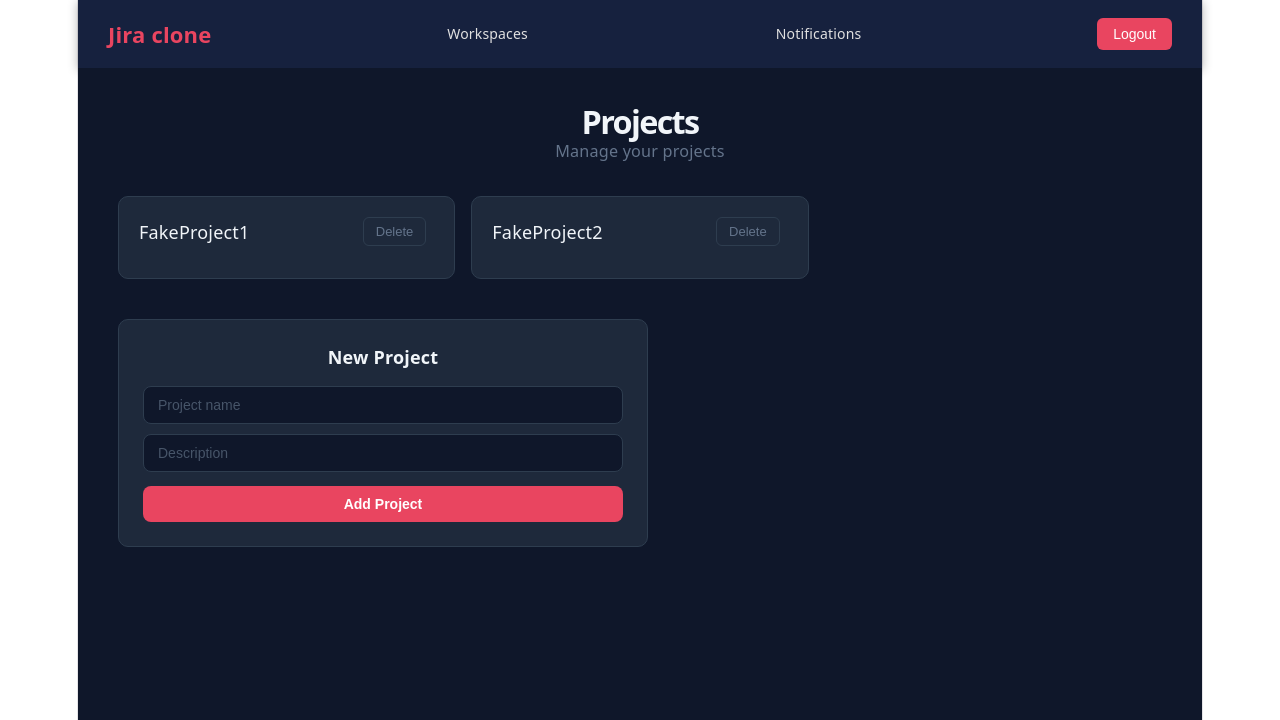
ProjectsPage › should add new project
Type "test123" into the field with placeholder "Project name". click: coordinates (383, 405)
box: x1=143 y1=386 x2=623 y2=424
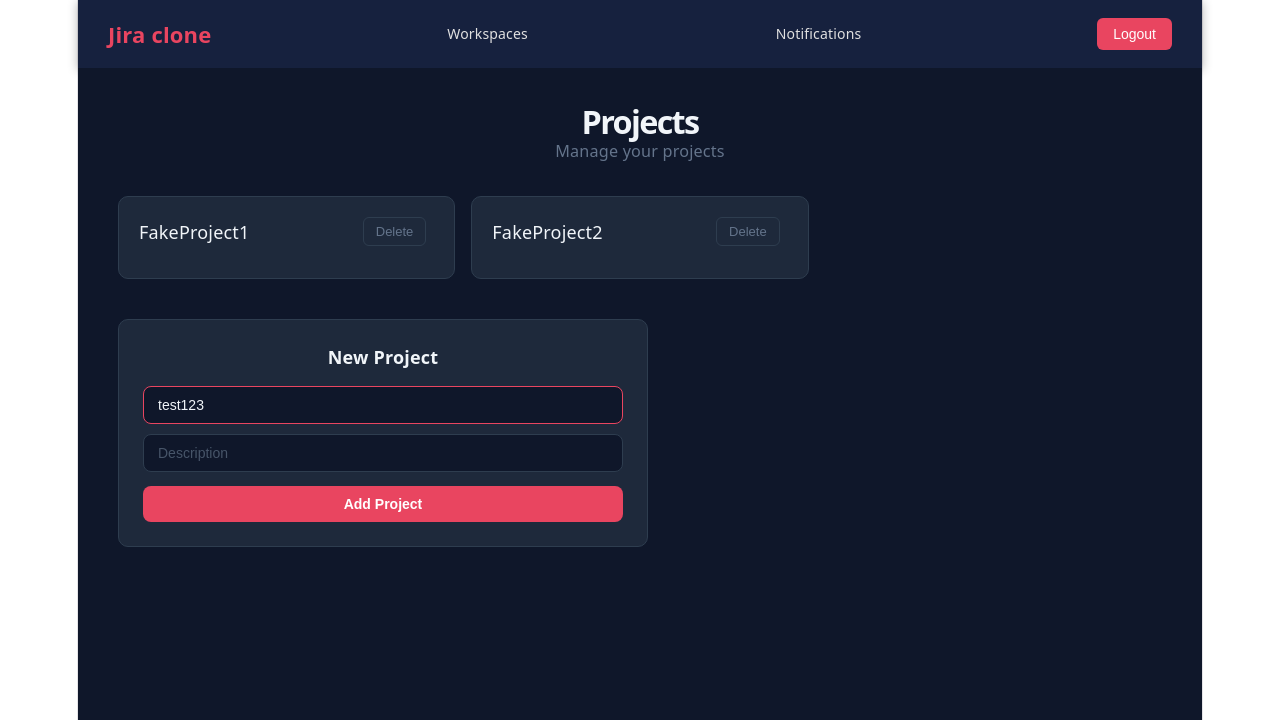
Type "test123" into the field with placeholder "Description". click: coordinates (383, 453)
box: x1=143 y1=434 x2=623 y2=472
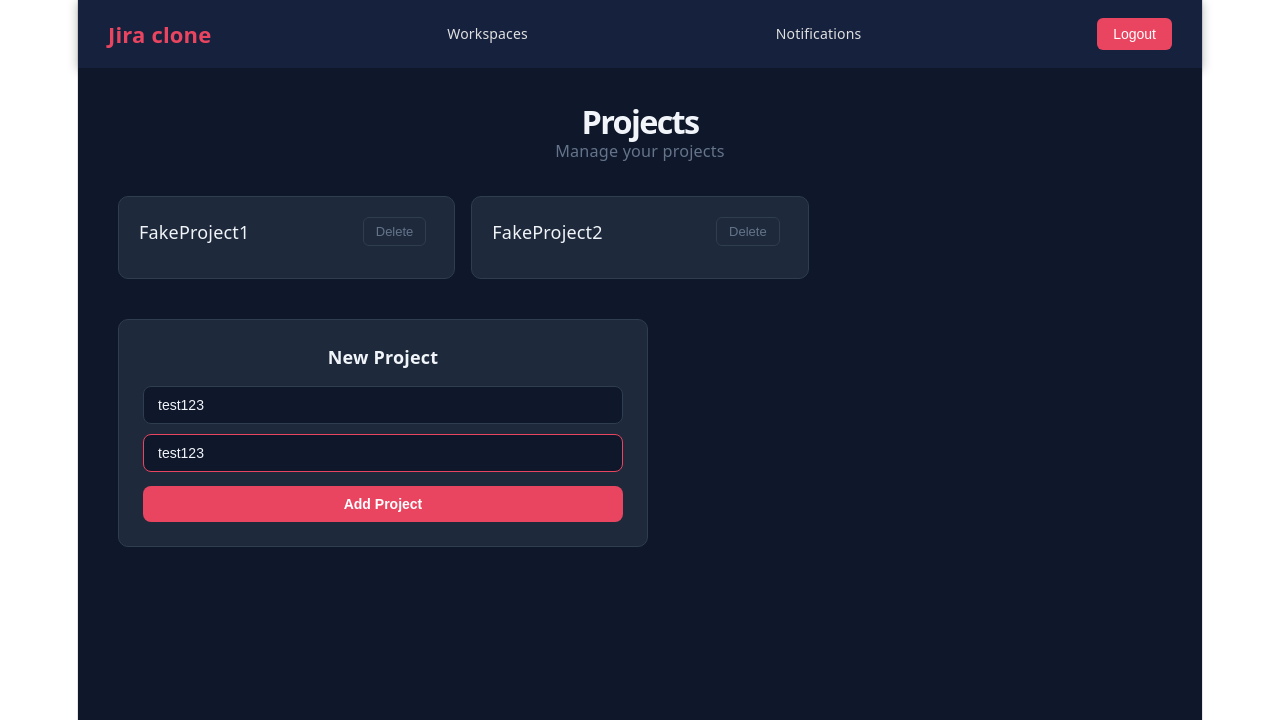
Click the button "Add Project". click: coordinates (383, 504)
box: x1=143 y1=486 x2=623 y2=522
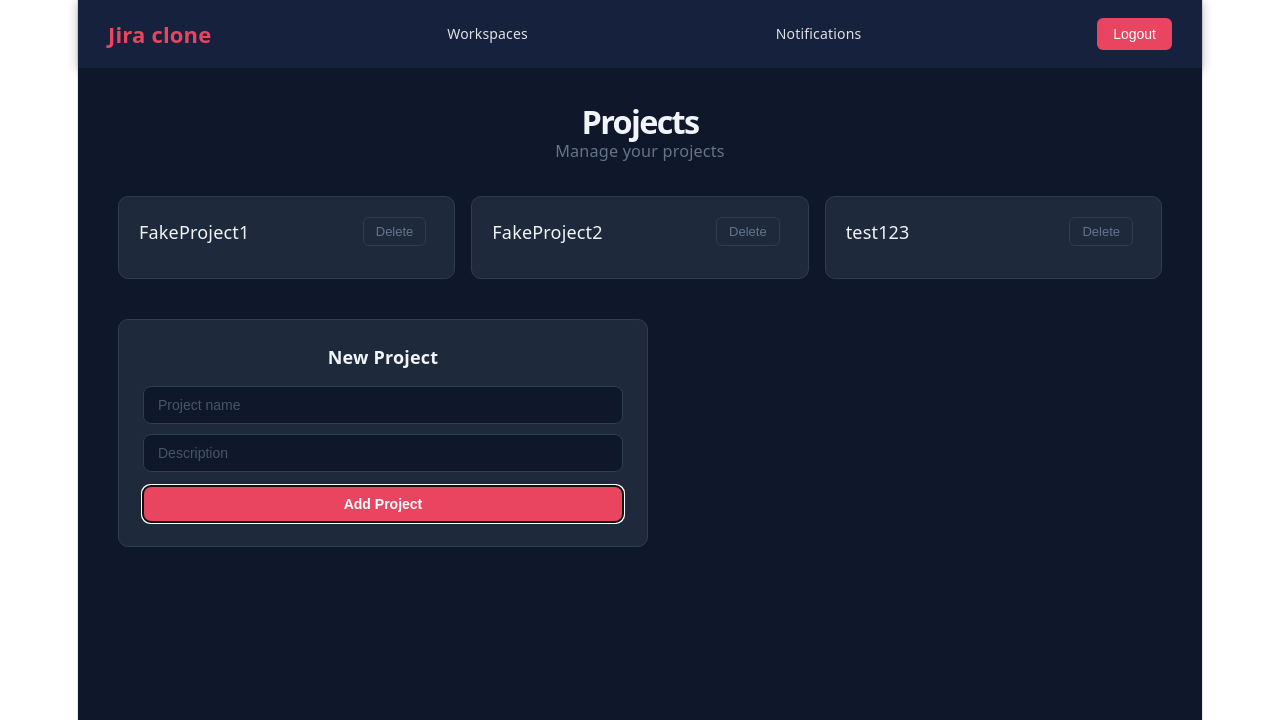
Expected: the link "test123" is shown, x1=846 y1=219 x2=910 y2=245
